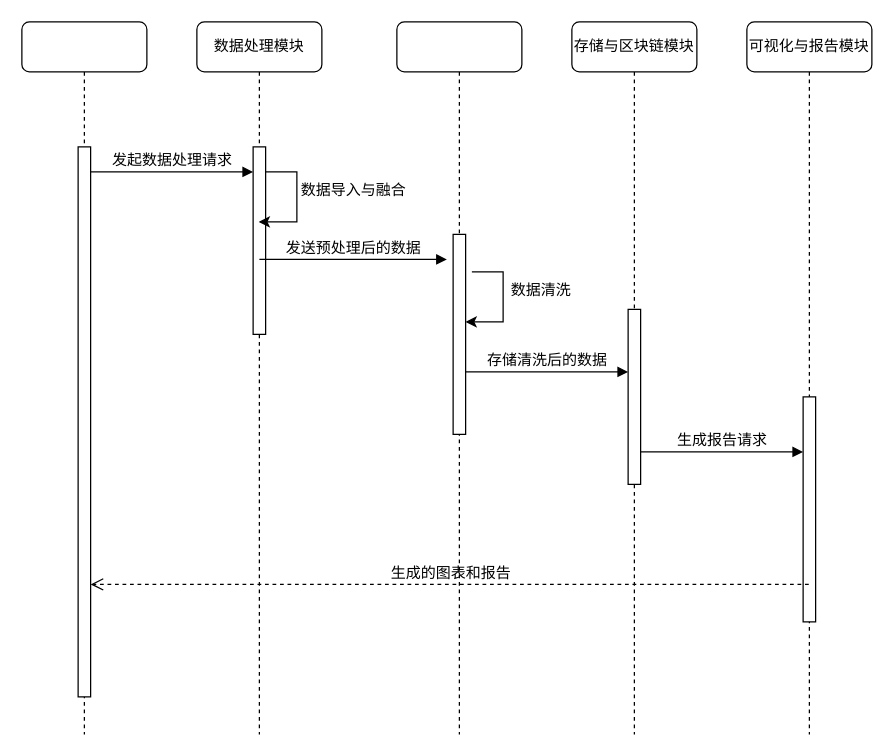
Image size: 894x756. Some labels were removed from this diagram. The box of each missing label's shape, as (x1, y1, x2, y2) in pixels:
清洗管理模块: (396, 21, 522, 734)
用户: (21, 21, 147, 734)
